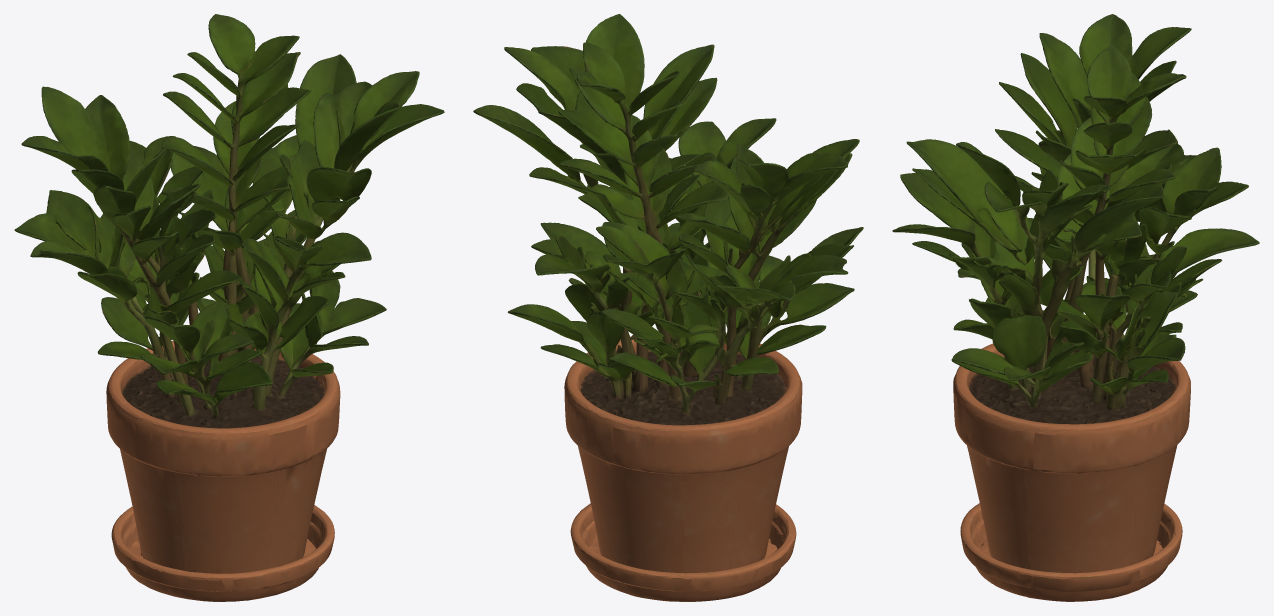
The model's file is item_1d6a667b.glb.
3 renders of one model, left to right at view 1: azimuth 30°, elevation 25°; view 2: azimuth 150°, elevation 25°; view 3: azimuth 270°, elevation 25°, orthographic.
Parts seen in each view (by area): view 1: world; view 2: world; view 3: world.
Boxes of the visible parts, box(x1,y1,x2,y2) form: world: box(14, 14, 444, 601); world: box(473, 14, 863, 601); world: box(892, 14, 1259, 601).
Bounding box in the file's own units: 0.4787 × 0.62 × 0.4061.
Materials: 1 (1 with a texture image).
